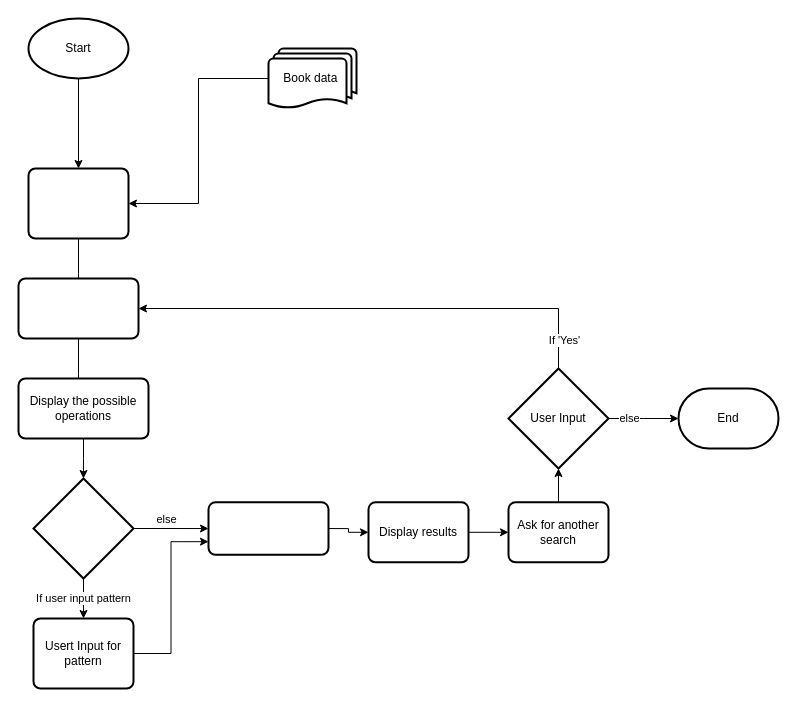
This 796x706 diagram has some shape labels left out. The centre of each missing label's shape, as x and y in pixels:
"Load and display the data" belongs at pixel 78 203.
"Run the operation" belongs at pixel 268 528.
"User Input for operation" belongs at pixel 83 528.
"User input for the book orAll Book" belongs at pixel 78 308.
